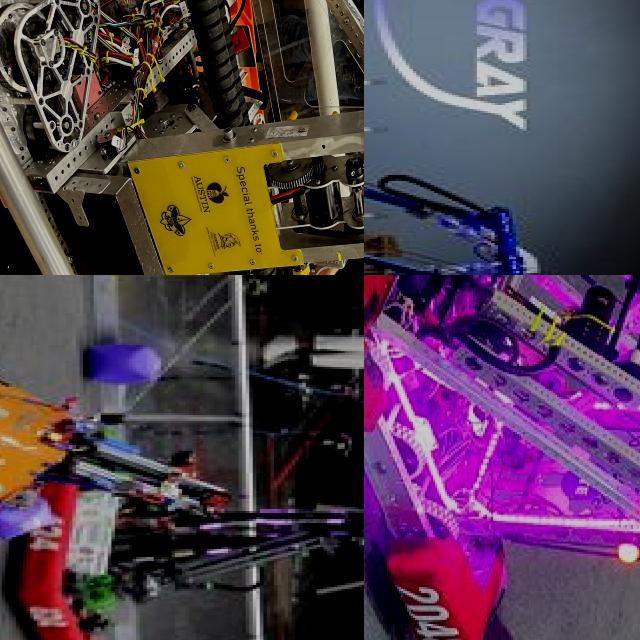FRC-Robots: (364, 275, 640, 640), (0, 0, 364, 275), (13, 450, 364, 640), (0, 302, 210, 539), (364, 13, 546, 275)
